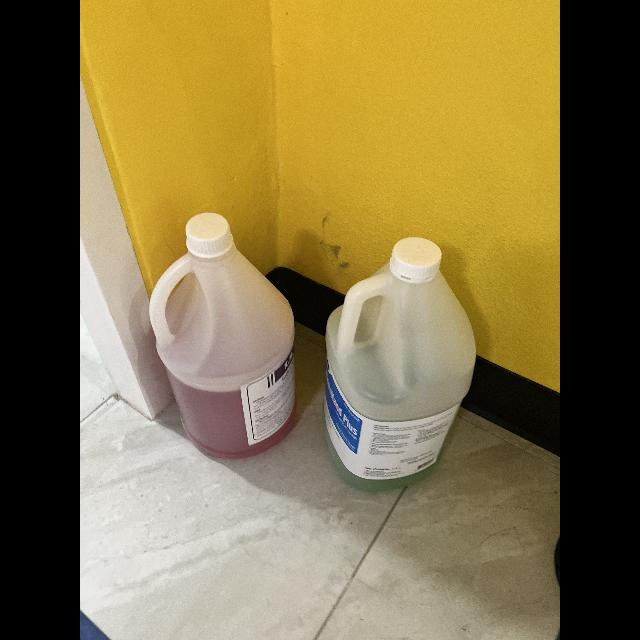chemical_plastic_gallon: (320, 226, 486, 494), (150, 211, 304, 463)
